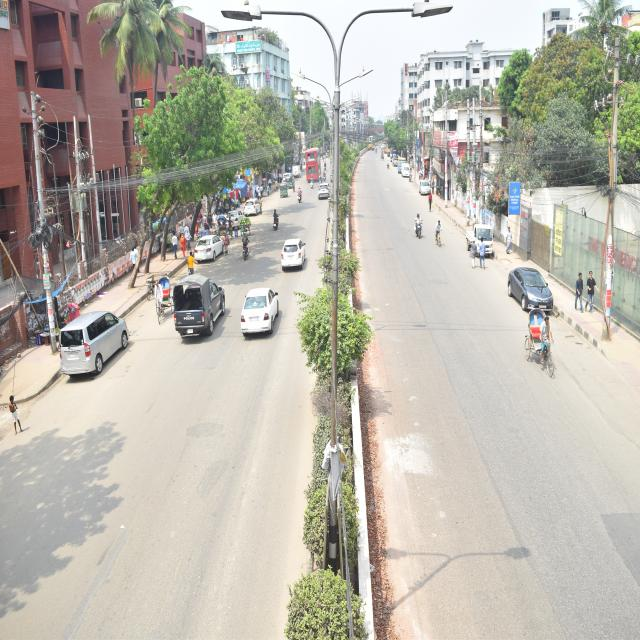bus: (304, 140, 321, 189)
car: (59, 308, 128, 381), (172, 272, 227, 342), (502, 257, 560, 312), (241, 284, 279, 337), (280, 235, 306, 271), (192, 235, 226, 261), (314, 178, 332, 207), (243, 196, 262, 221), (416, 175, 432, 203), (399, 160, 413, 181)
motorbike: (410, 209, 425, 241), (239, 232, 251, 262), (269, 206, 280, 235), (295, 187, 304, 206)
pickup-van: (462, 222, 496, 258)
